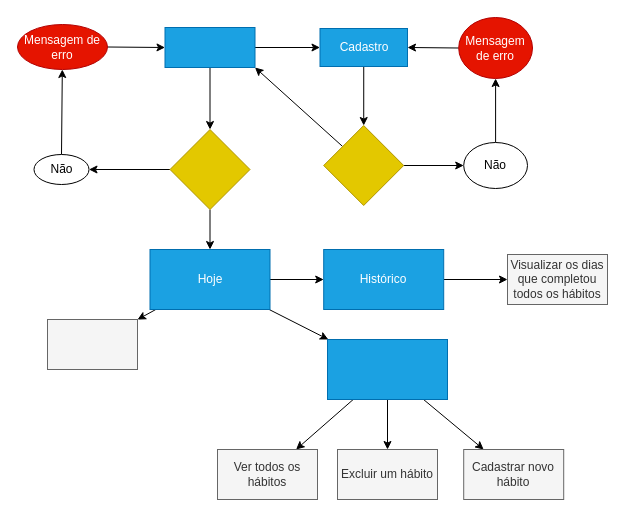
Image size: 625x517. Some labels were removed from this diagram. Each missing label, with the box of its shape:
Cadastro ok?: (323, 124, 404, 206)
Hábitos: (326, 338, 448, 400)
Login: (164, 26, 255, 68)
Login ok?: (169, 128, 250, 210)
Marcar hábito como concluido: (46, 318, 138, 370)
